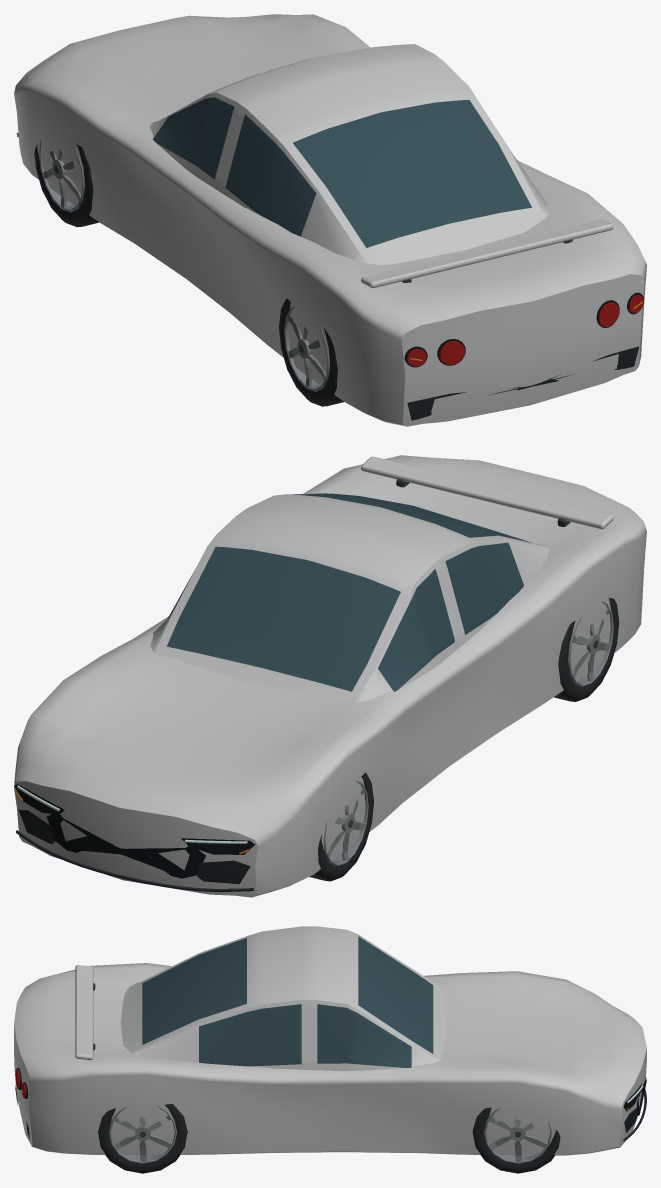
Rendered from kaido-r-lod.glb.
The picture shows the model from 3 angles, top to bottom: view 1: azimuth 30°, elevation 25°; view 2: azimuth 150°, elevation 25°; view 3: azimuth 270°, elevation 25°; orthographic projection. The views are drawn at different scales.
Visible parts, largest first — view 1: paint, glass, wheelSurface (×2), trim, brake; view 2: paint, glass, trim, wheelSurface (×2); view 3: paint, glass, wheelSurface (×2), trim.
Part boxes in pixels (box(x1,y1,x2,y2)): paint: box(14, 14, 646, 426); glass: box(153, 97, 531, 247); wheelSurface (×2): box(34, 139, 343, 406); trim: box(16, 133, 643, 420); brake: box(407, 294, 643, 366); paint: box(14, 455, 646, 897); glass: box(167, 493, 530, 691); trim: box(15, 479, 570, 891); wheelSurface (×2): box(309, 597, 619, 881); paint: box(14, 926, 646, 1155); glass: box(142, 936, 433, 1067); wheelSurface (×2): box(98, 1104, 560, 1173); trim: box(15, 983, 646, 1141).
Bounding box in the file's own units: 1.93 × 1.37 × 4.69.
